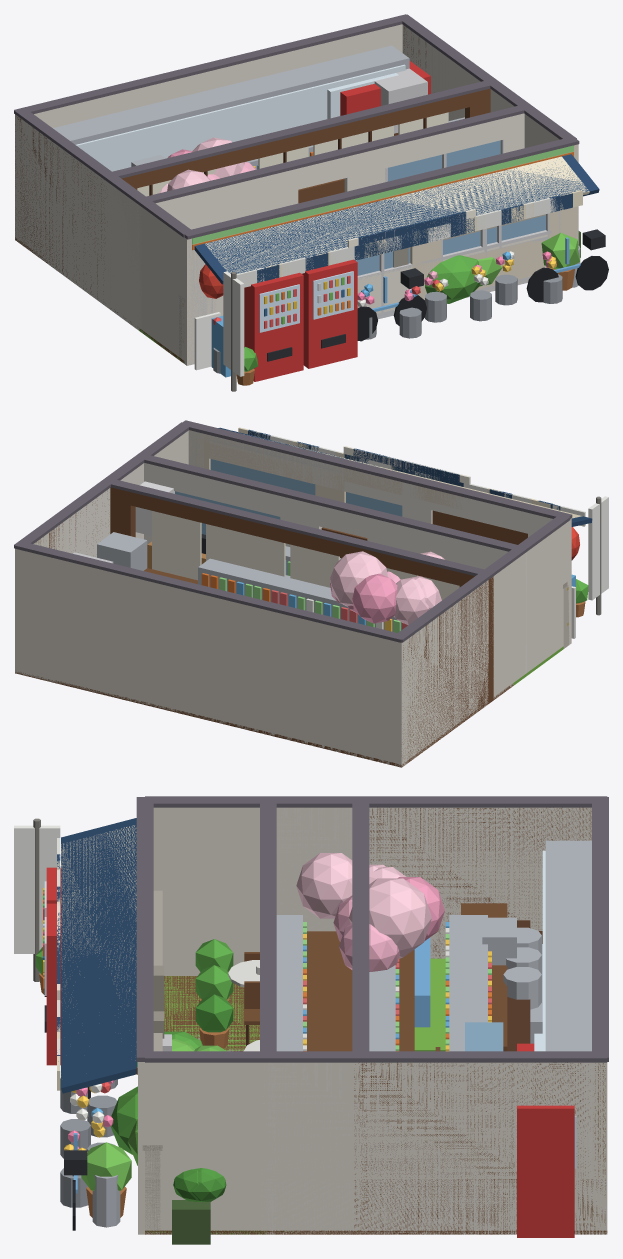
Rendered from strips.glb.
3 renders of one model, top to bottom at view 1: azimuth 30°, elevation 25°; view 2: azimuth 150°, elevation 25°; view 3: azimuth 270°, elevation 25°, orthographic. The views are drawn at different scales.
Parts seen in each view (by area): view 1: piece_cafe, piece_house_a, piece_konbini, piece_ramen, piece_house_b, piece_flowers, piece_plaza; view 2: piece_cafe, piece_house_b, piece_house_a, piece_ramen, piece_konbini, piece_plaza, piece_flowers; view 3: piece_cafe, piece_house_a, piece_konbini, piece_plaza, piece_house_b, piece_flowers, piece_ramen.
Part boxes in pixels (left/top/right/bottom): piece_cafe: left=14, top=14, right=599, bottom=381; piece_house_a: left=14, top=15, right=545, bottom=362; piece_konbini: left=53, top=45, right=580, bottom=391; piece_ramen: left=187, top=68, right=608, bottom=385; piece_house_b: left=15, top=15, right=498, bottom=358; piece_flowers: left=187, top=73, right=578, bottom=373; piece_plaza: left=159, top=61, right=580, bottom=257; piece_cafe: left=14, top=420, right=592, bottom=767; piece_house_b: left=16, top=478, right=568, bottom=762; piece_house_a: left=17, top=454, right=569, bottom=762; piece_ramen: left=73, top=427, right=588, bottom=638; piece_konbini: left=97, top=431, right=608, bottom=632; piece_plaza: left=330, top=551, right=444, bottom=624; piece_flowers: left=188, top=430, right=551, bottom=521; piece_cafe: left=43, top=796, right=608, bottom=1234; piece_house_a: left=88, top=796, right=607, bottom=1234; piece_konbini: left=14, top=818, right=591, bottom=1227; piece_plaza: left=164, top=853, right=576, bottom=1244; piece_house_b: left=147, top=796, right=607, bottom=1234; piece_flowers: left=60, top=903, right=542, bottom=1207; piece_ramen: left=35, top=825, right=542, bottom=1230.
Size of the model in its own units: 8.32 by 2.63 by 7.72.
